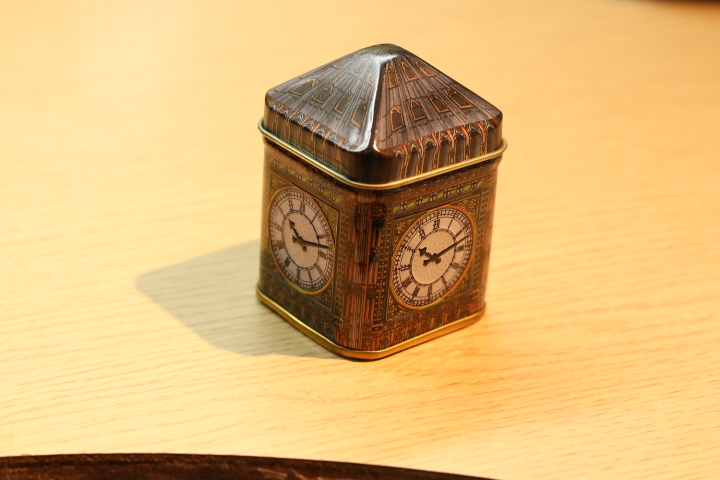Big Ben: (240, 30, 535, 375)
